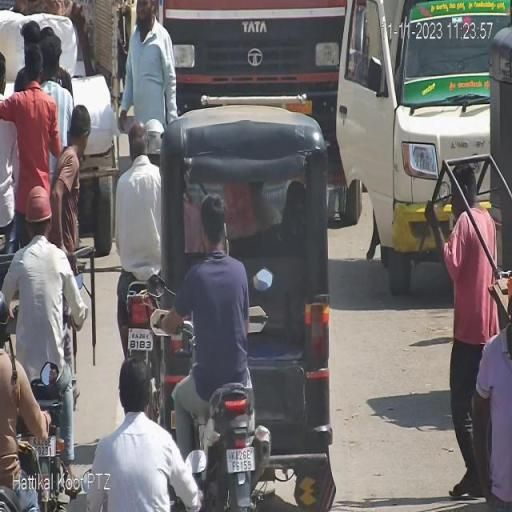using mobile: (221, 216, 233, 256)
